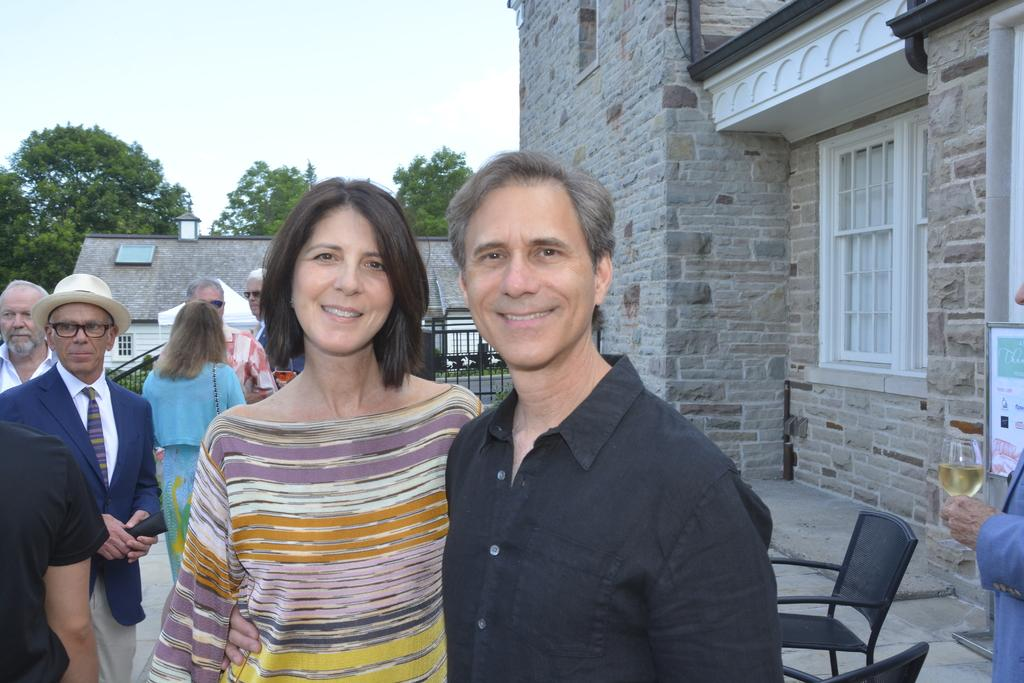Chair: (768, 509, 918, 680)
